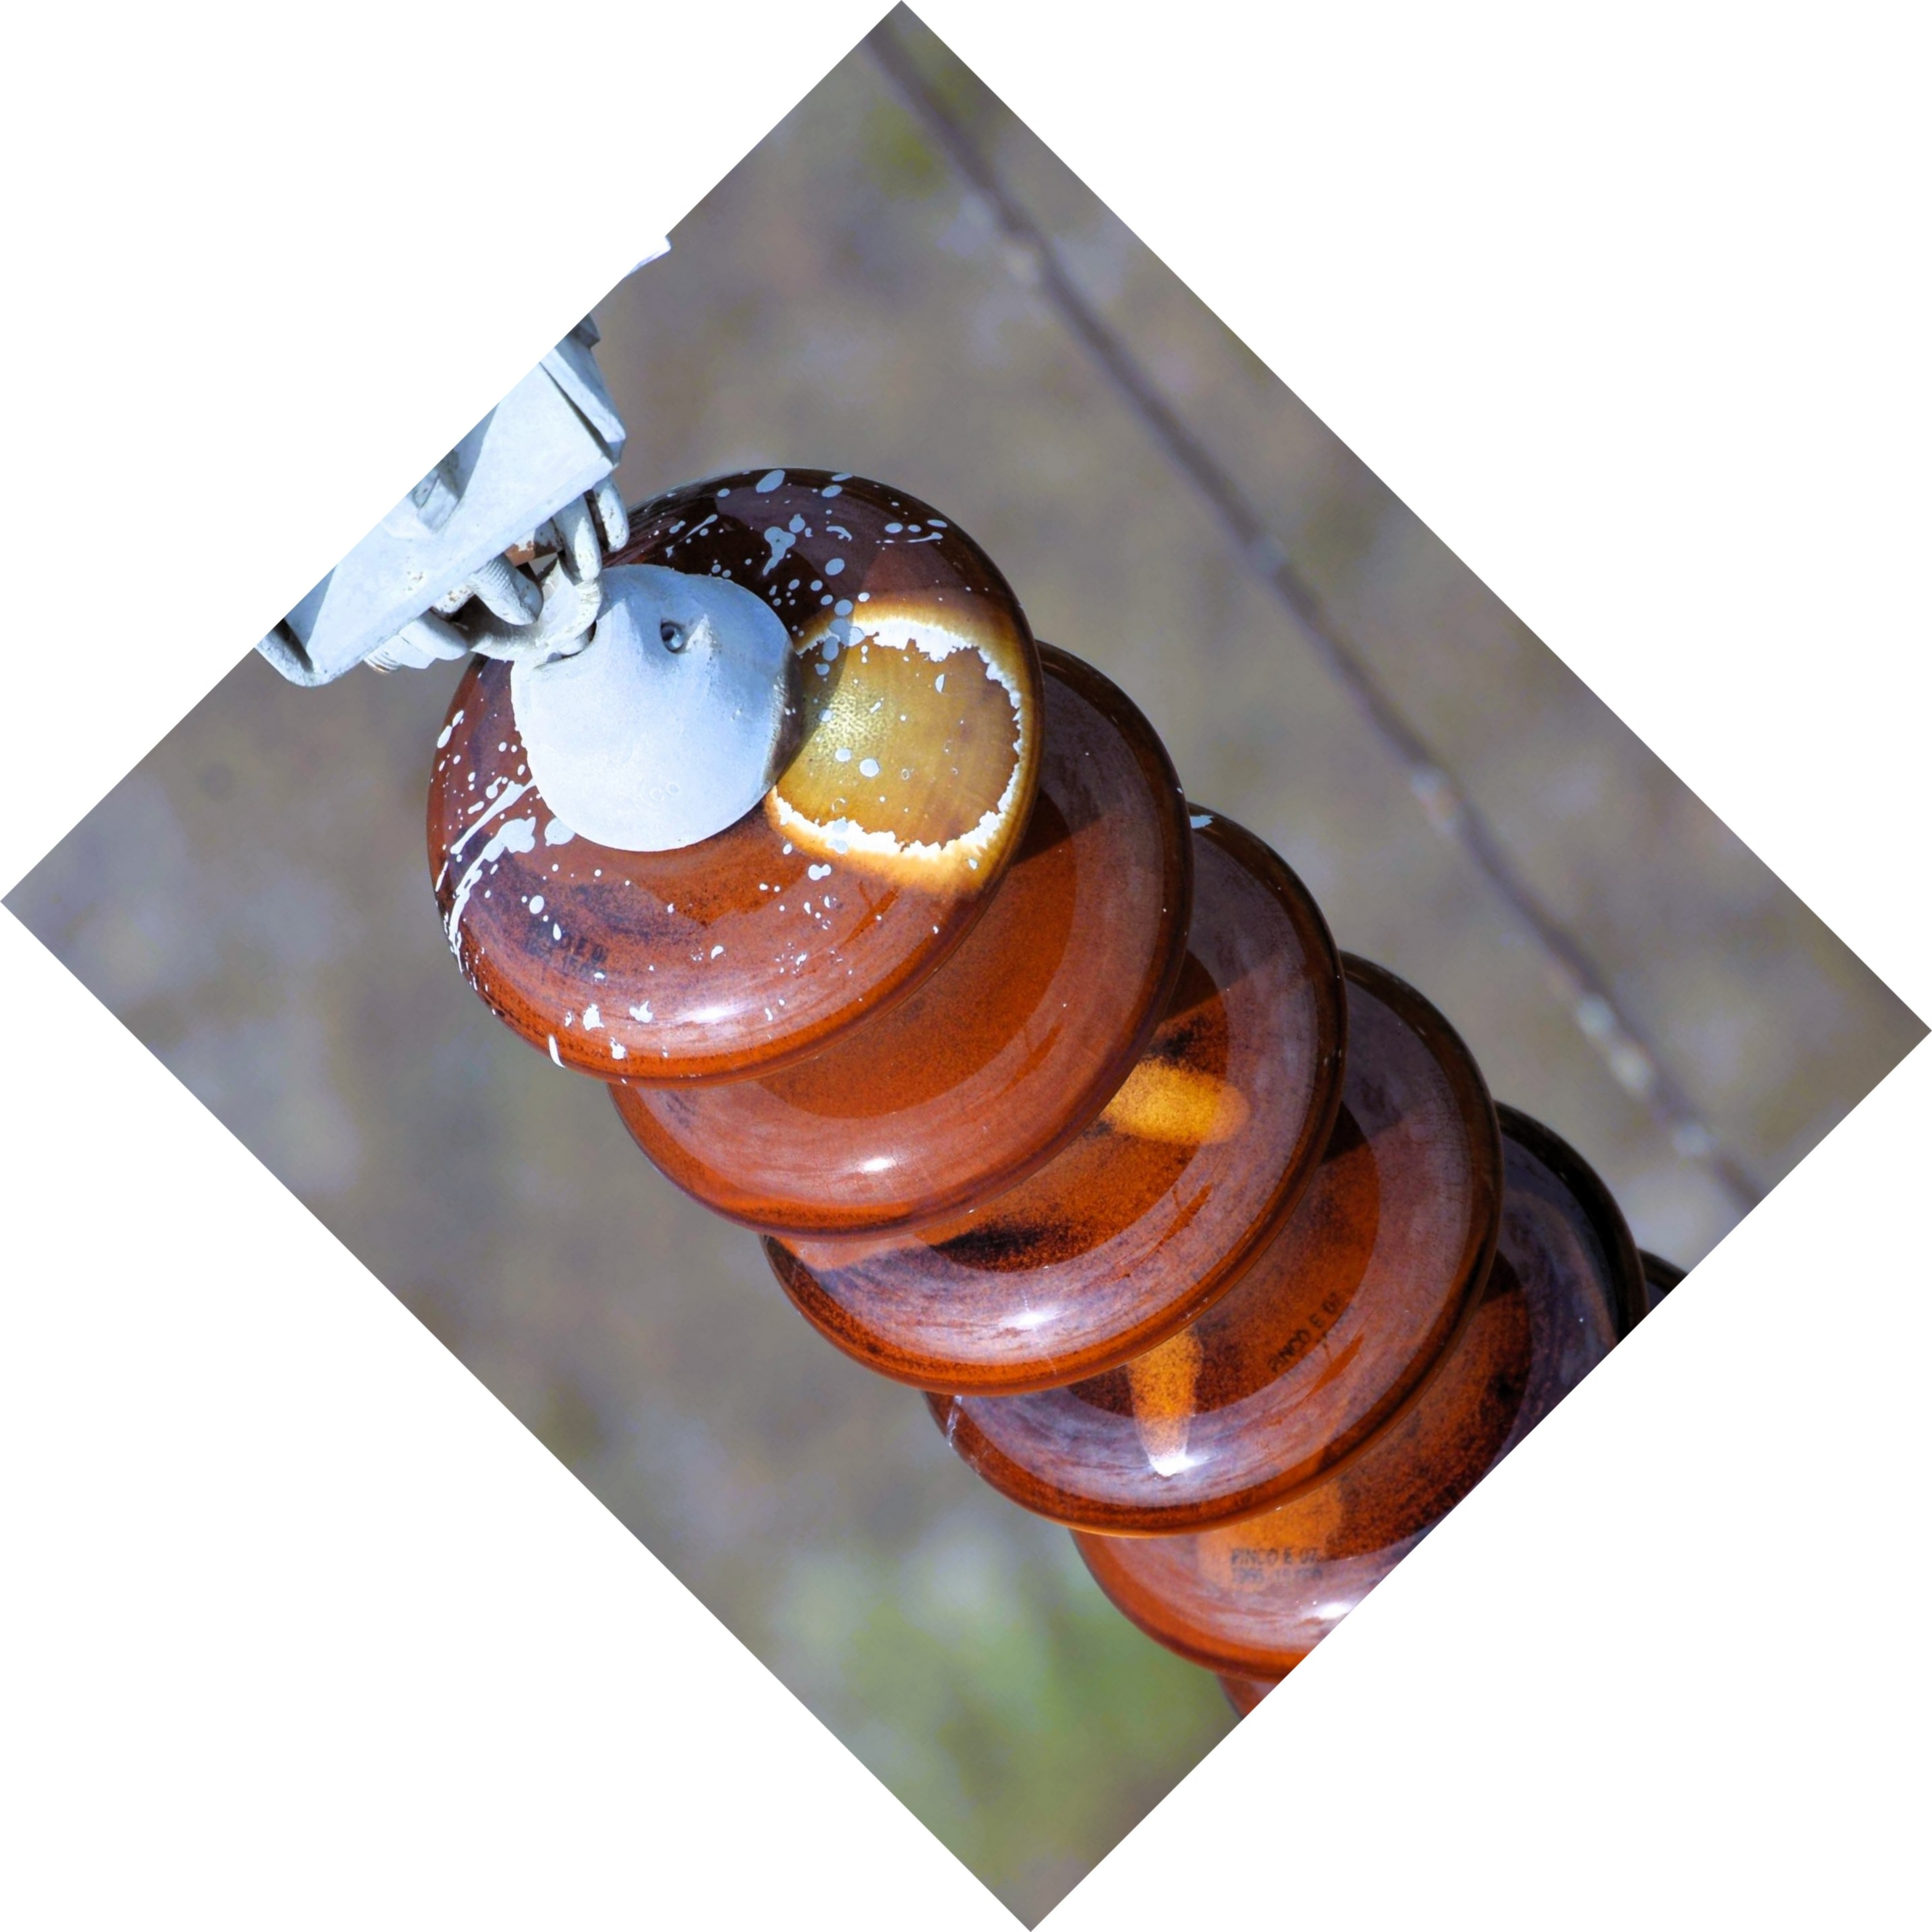Insulator flashover: (405, 460, 1037, 1077)
